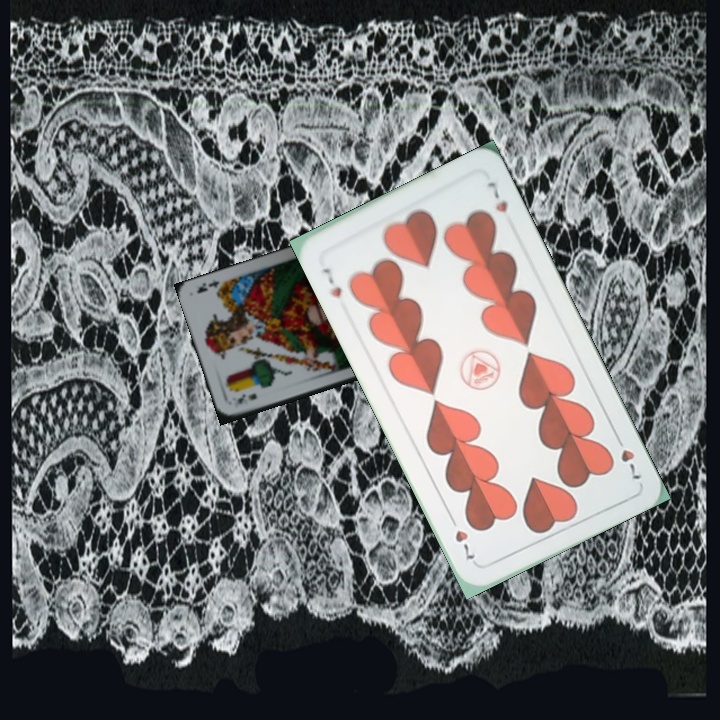EK: (233, 389, 259, 408)
H7: (611, 430, 645, 482), (318, 264, 345, 300)
